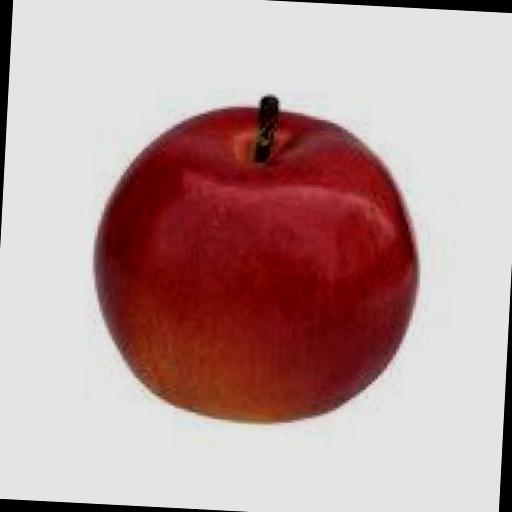biodegradable: (82, 82, 428, 436)
